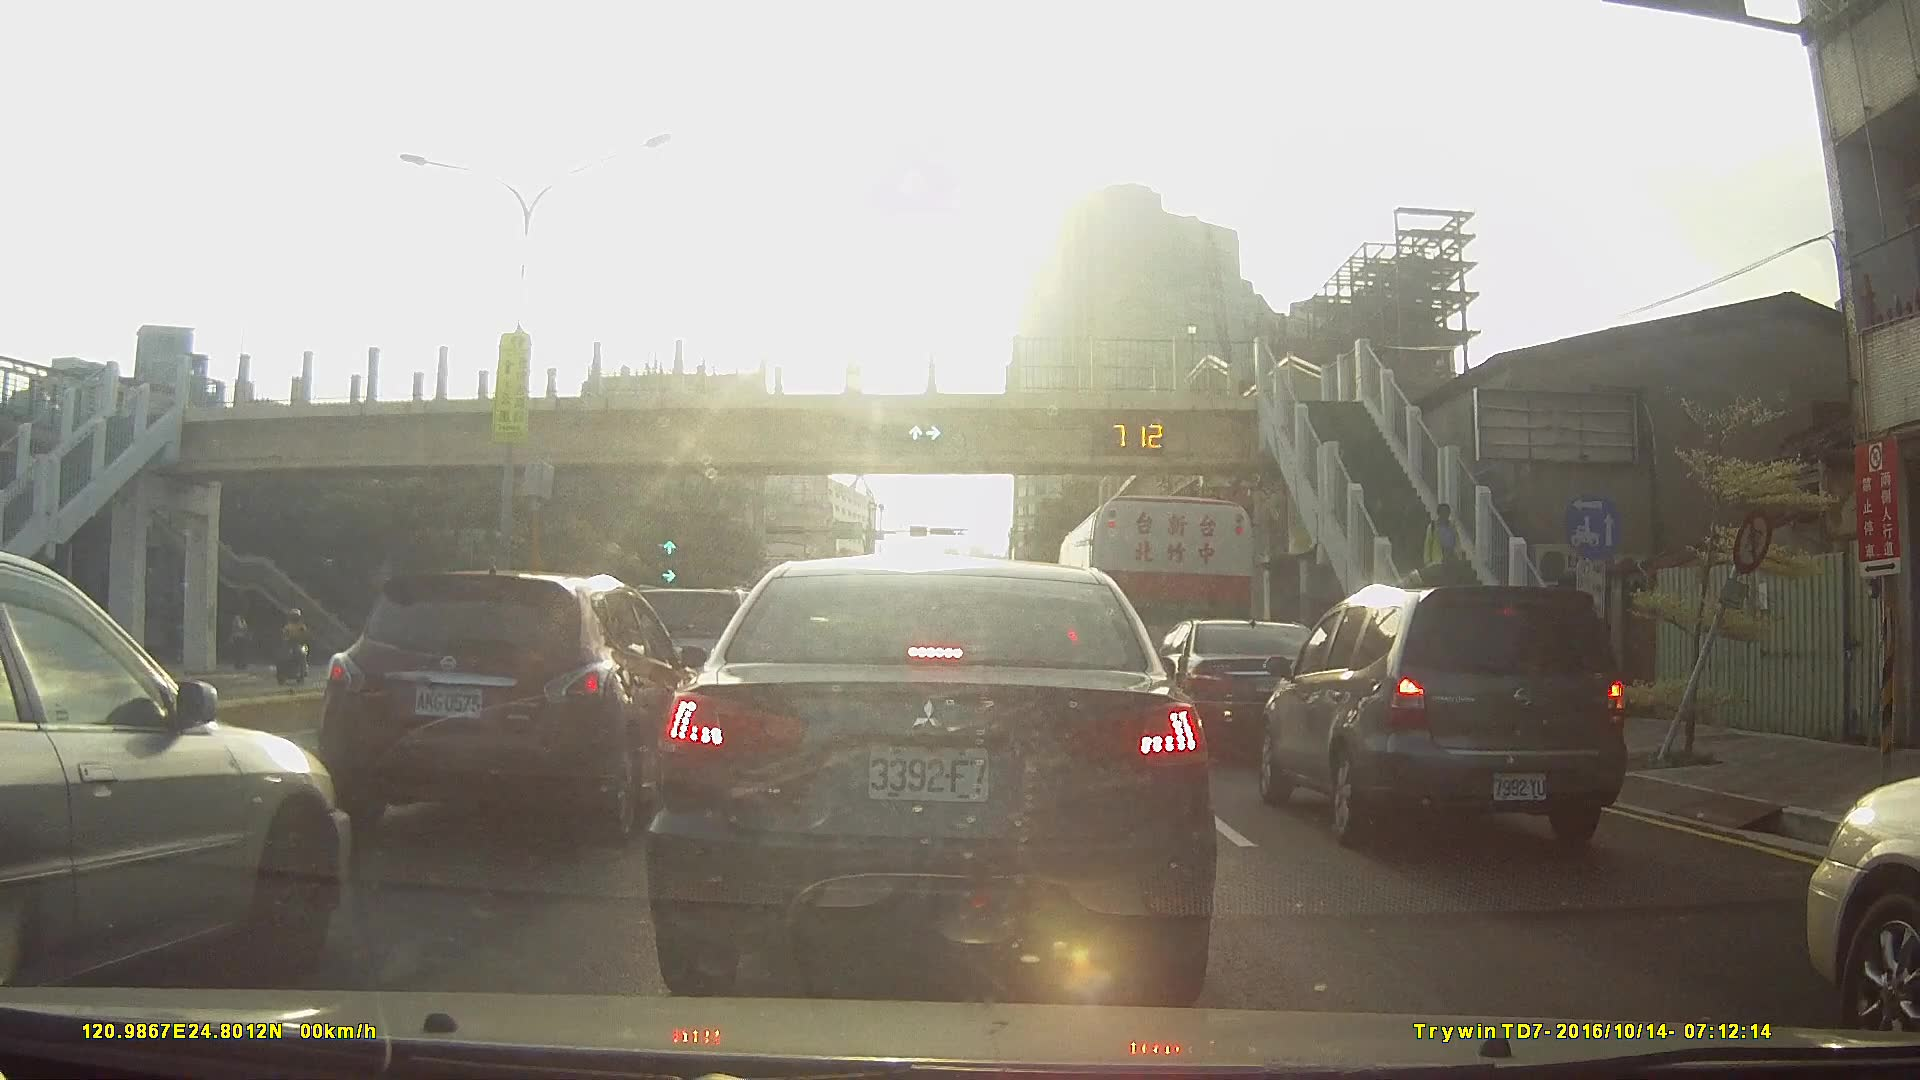pedestrian: (1420, 500, 1473, 602)
rider: (273, 609, 311, 684)
vehicle: (645, 553, 1221, 997), (0, 548, 363, 1009), (319, 566, 704, 840), (1251, 584, 1636, 846), (1144, 619, 1336, 747)
